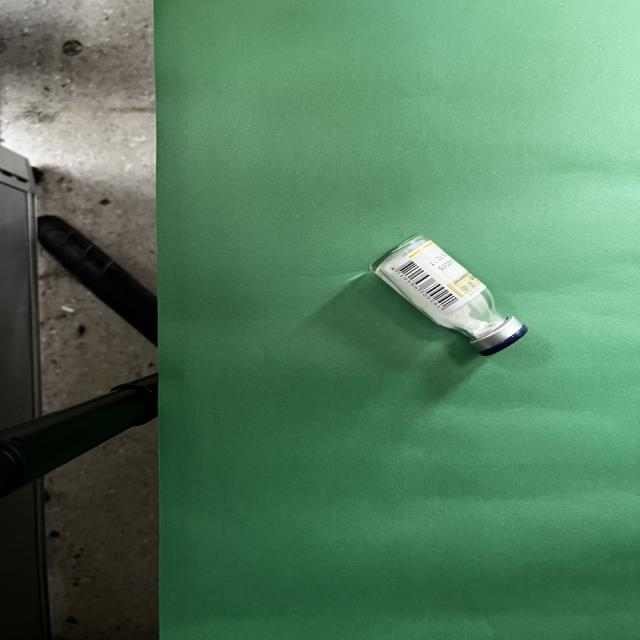Vials: (369, 234, 529, 357)
